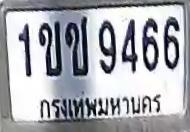1: (18, 22, 31, 78)
4: (121, 17, 138, 72)
6: (142, 17, 158, 71), (163, 16, 179, 69)
9: (98, 19, 116, 74)
A02: (37, 20, 62, 76)
A10: (65, 16, 88, 76)
BKK: (35, 88, 164, 120)
